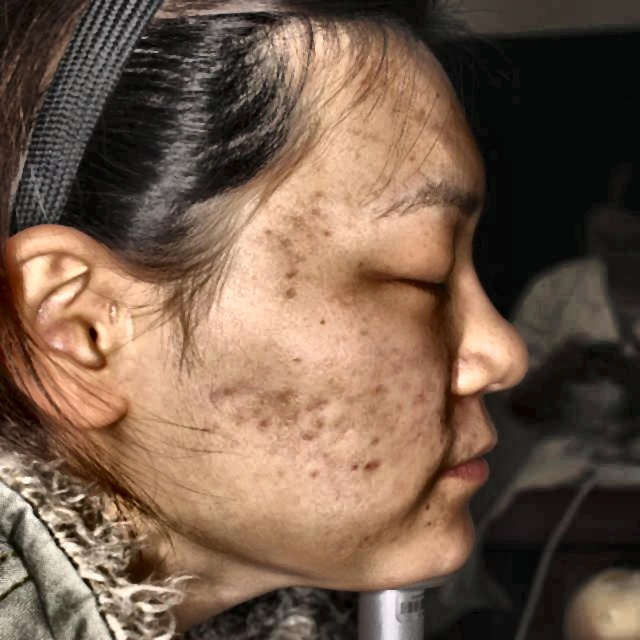comedone: (405, 384, 440, 420), (354, 454, 386, 485)
